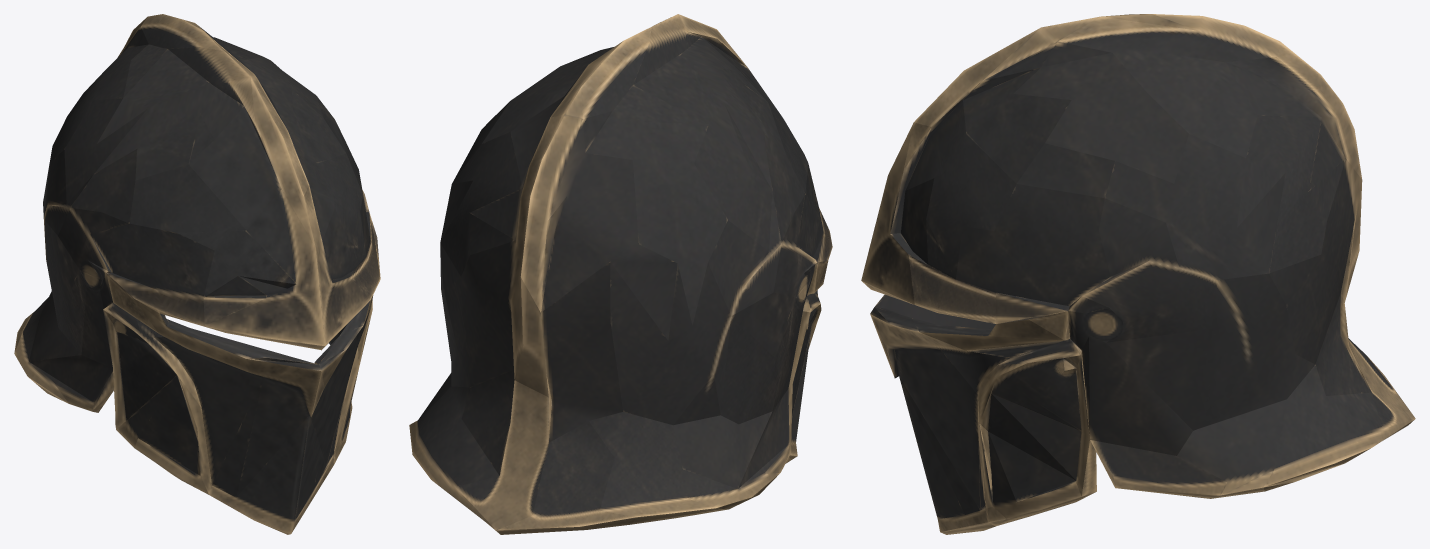
Rendered from SM_SharedGear_Helmet.fbx.
3 renders of one model, left to right at view 1: azimuth 30°, elevation 25°; view 2: azimuth 150°, elevation 25°; view 3: azimuth 270°, elevation 25°, orthographic. The views are drawn at different scales.
Parts seen in each view (by area): view 1: SM_SharedGear_Helmet; view 2: SM_SharedGear_Helmet; view 3: SM_SharedGear_Helmet.
Part boxes in pixels (x1,y1,x2,y2): SM_SharedGear_Helmet: (14, 14, 380, 534); SM_SharedGear_Helmet: (409, 14, 832, 534); SM_SharedGear_Helmet: (861, 14, 1415, 534).
Size of the model in its own units: 30.45 by 45 by 43.28.
